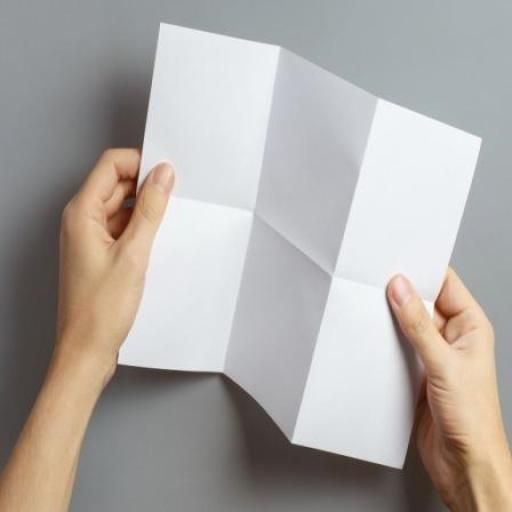paper: (113, 10, 492, 475)
